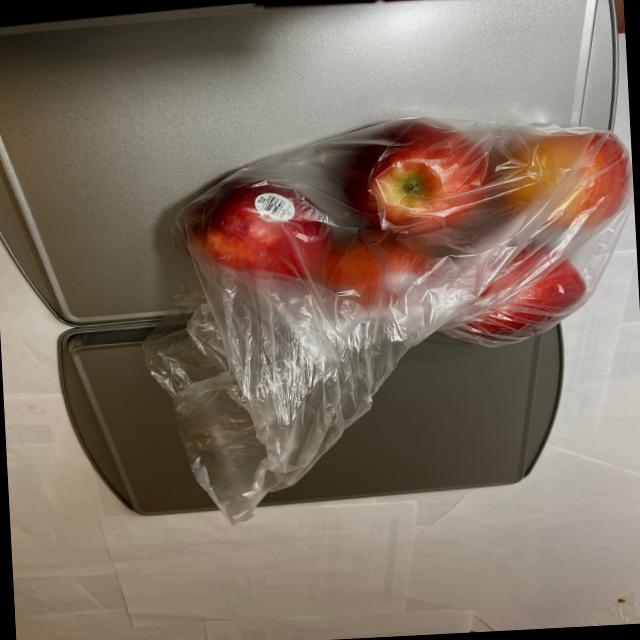apple: (168, 108, 636, 373)
